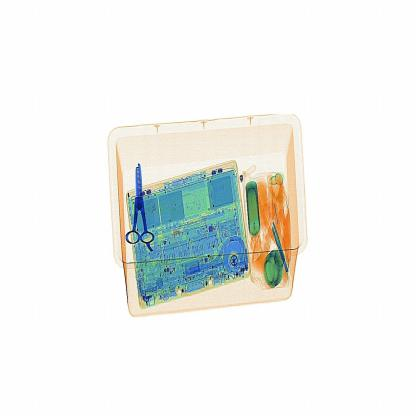gun: (122, 150, 161, 259)
